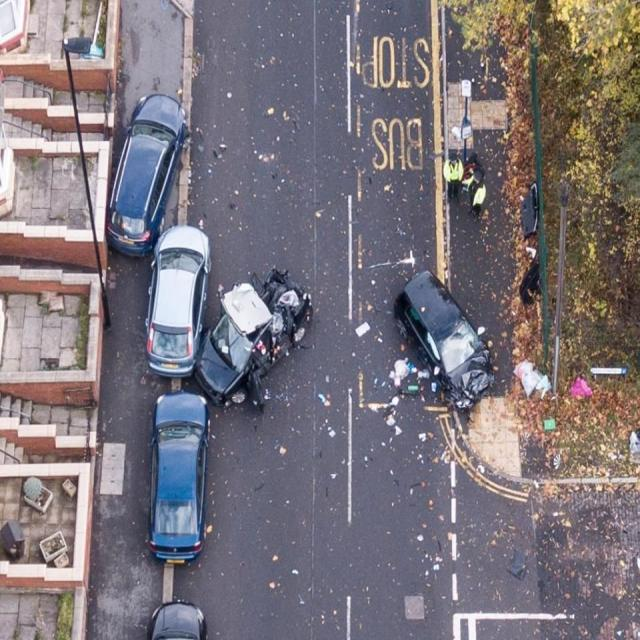traffic_incident: (191, 257, 317, 402), (392, 262, 491, 402)
